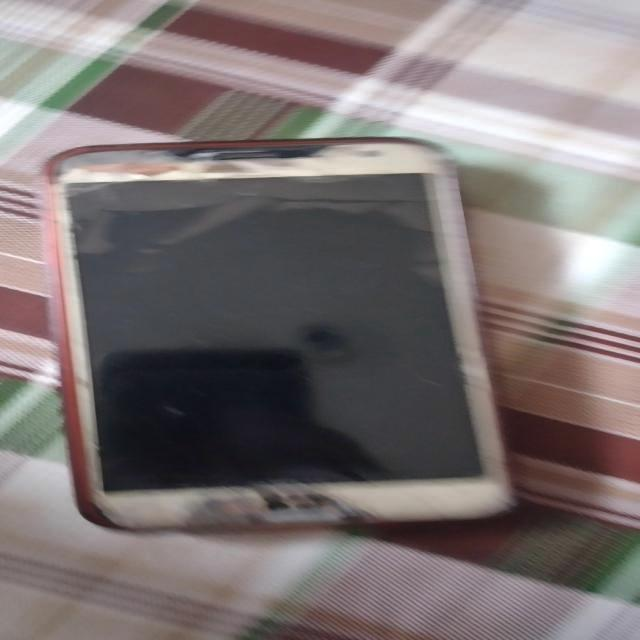phone: (32, 115, 546, 560)
